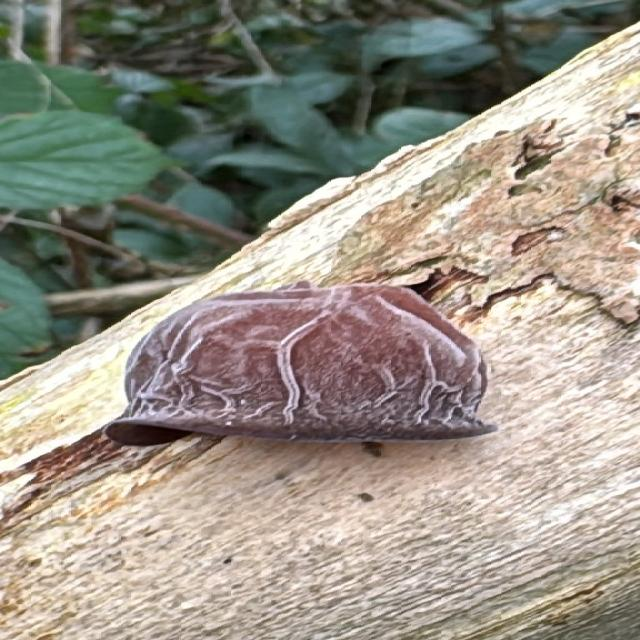Matang: (108, 280, 540, 446)
